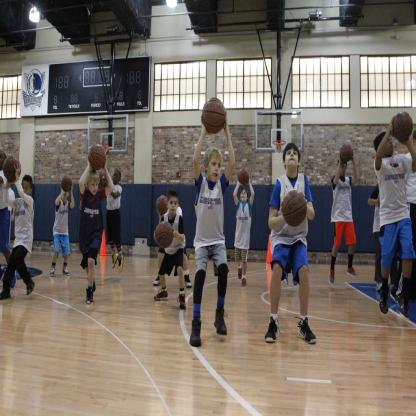Ball: (202, 97, 226, 135), (282, 190, 306, 228), (393, 110, 414, 144), (87, 142, 107, 170), (2, 156, 20, 182), (156, 222, 173, 247), (340, 142, 353, 163), (156, 195, 168, 217), (237, 168, 250, 186), (60, 176, 74, 192), (100, 171, 109, 190)
